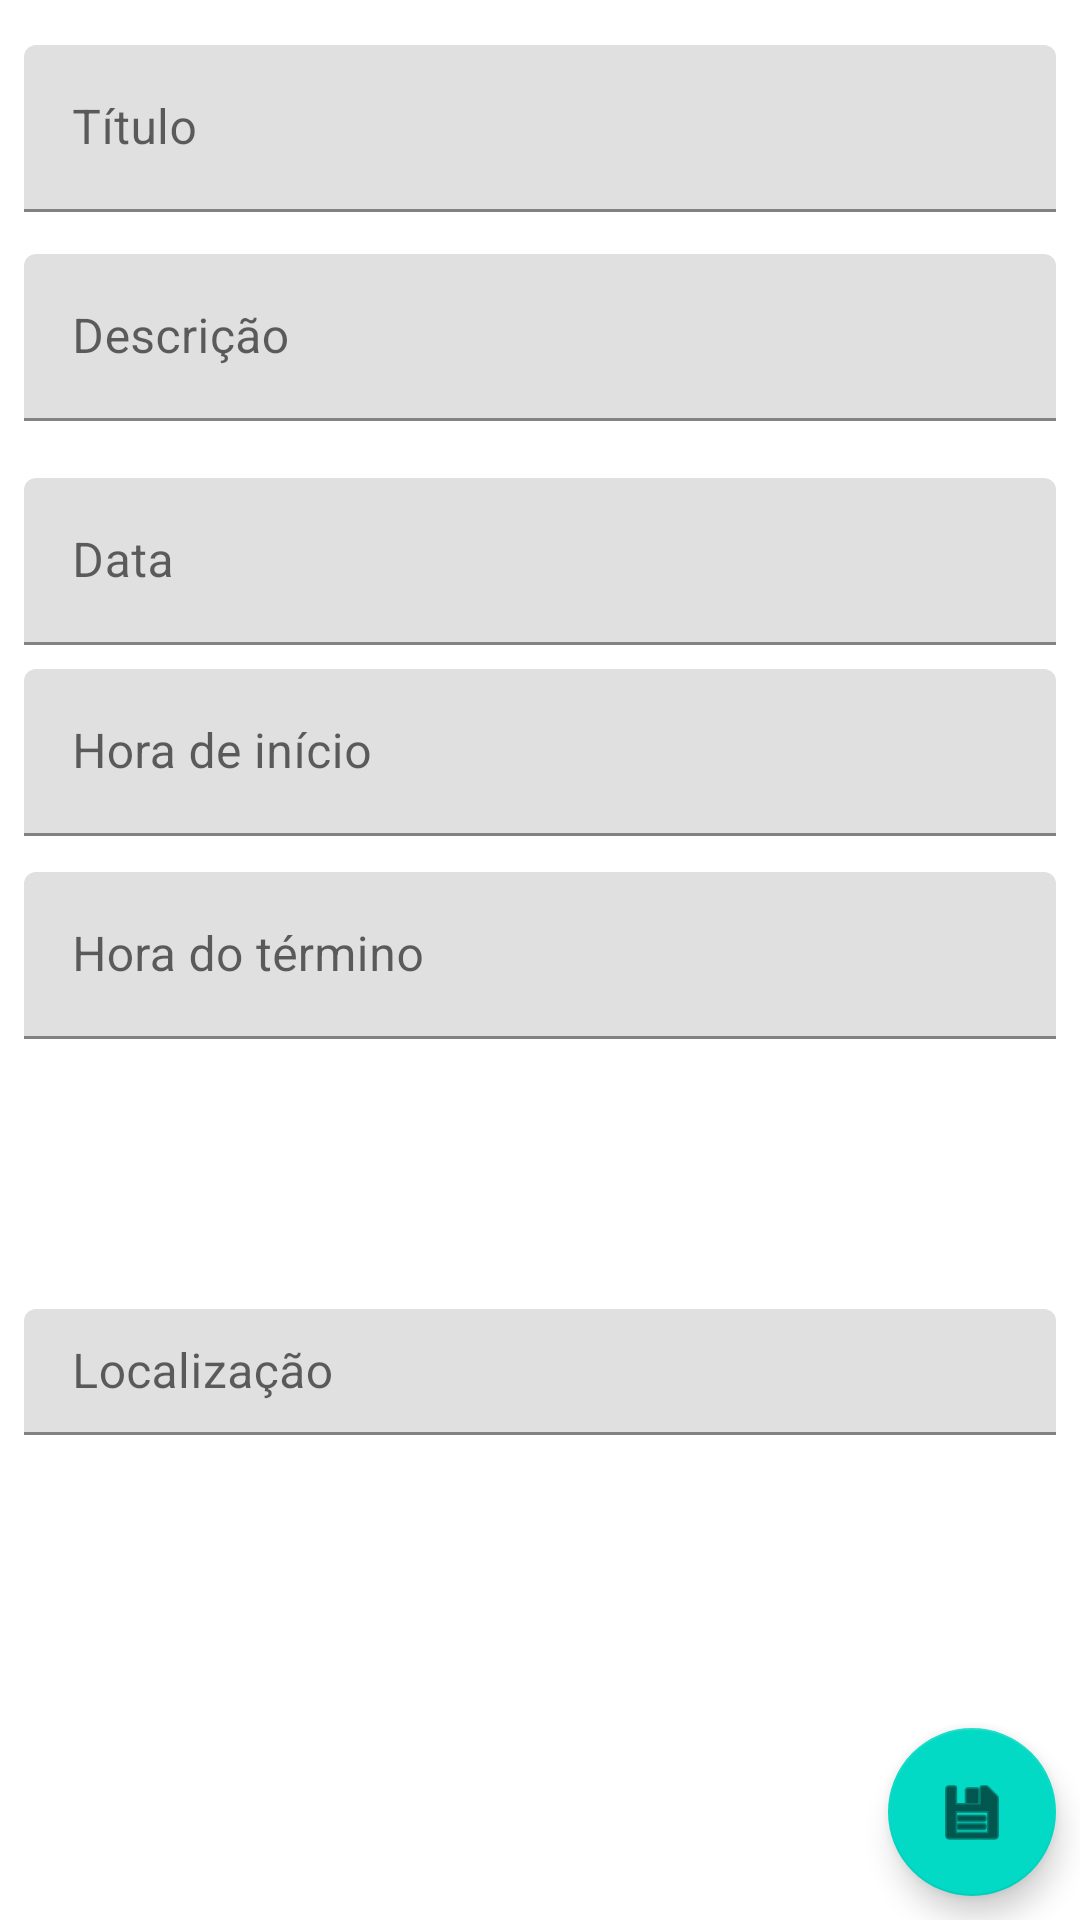

Icon bounding boxes for this 1080x1920 phone screenshot, format region(x1, y1, x2, y2):
save: region(888, 1728, 1056, 1896)
